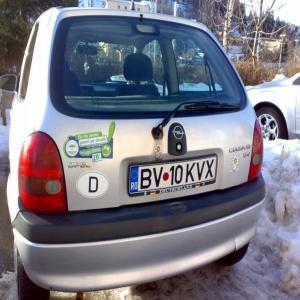Vehicle-registration-plate: (132, 156, 217, 196)
